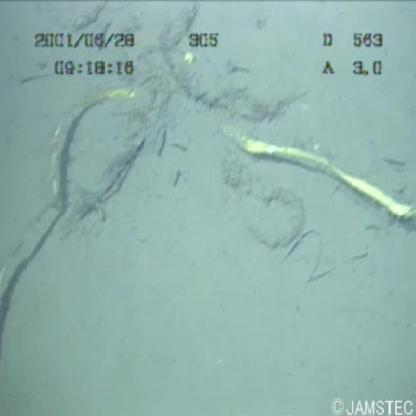Rác: (3, 6, 416, 363)
